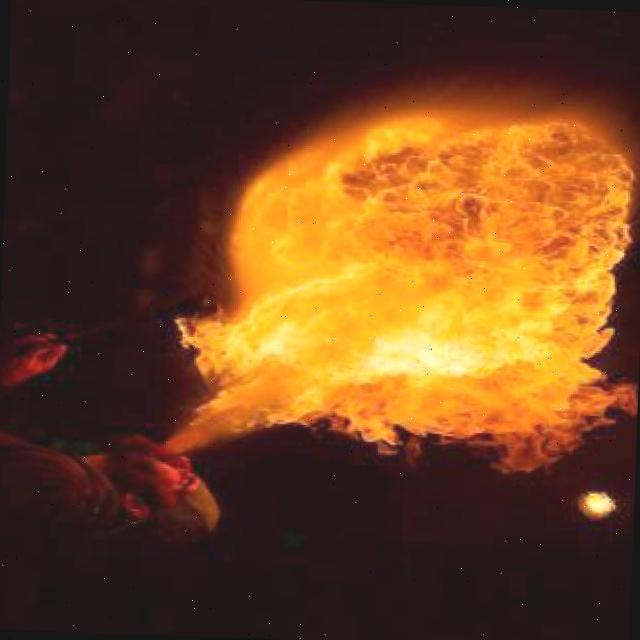fire: (186, 98, 640, 465)
